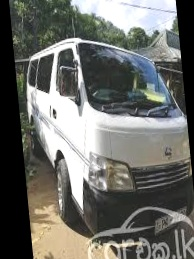van: (20, 22, 194, 245)
